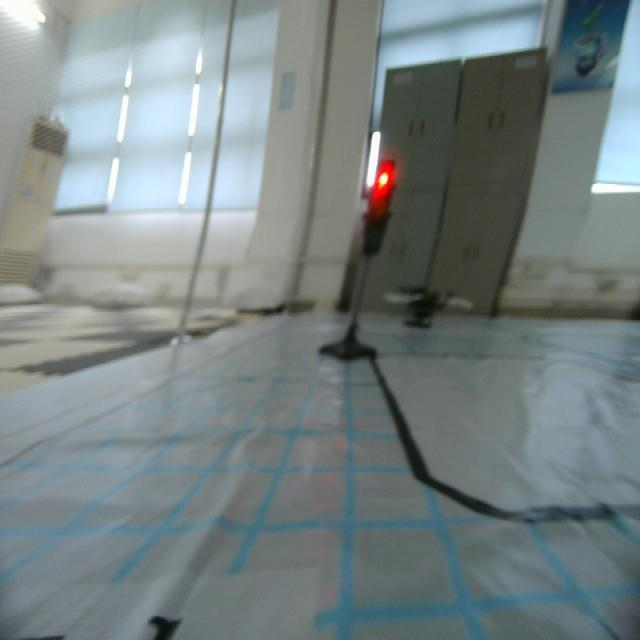red: (364, 158, 394, 260)
